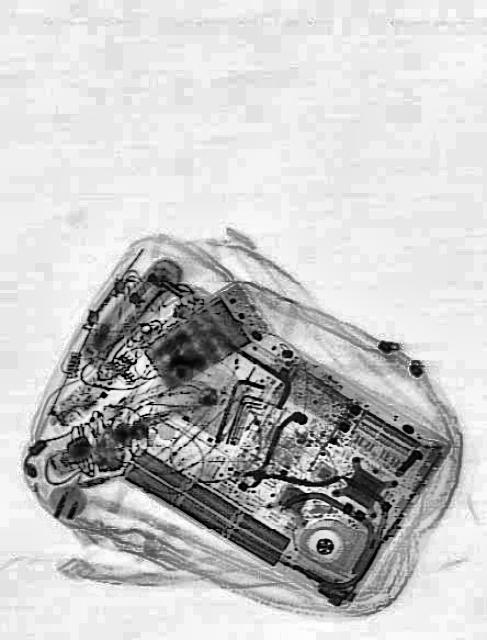Pliers: (228, 400, 340, 520)
